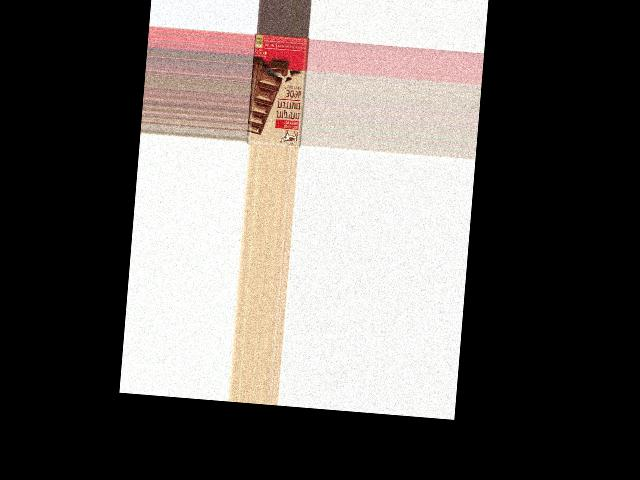chocolate: (246, 34, 310, 148)
